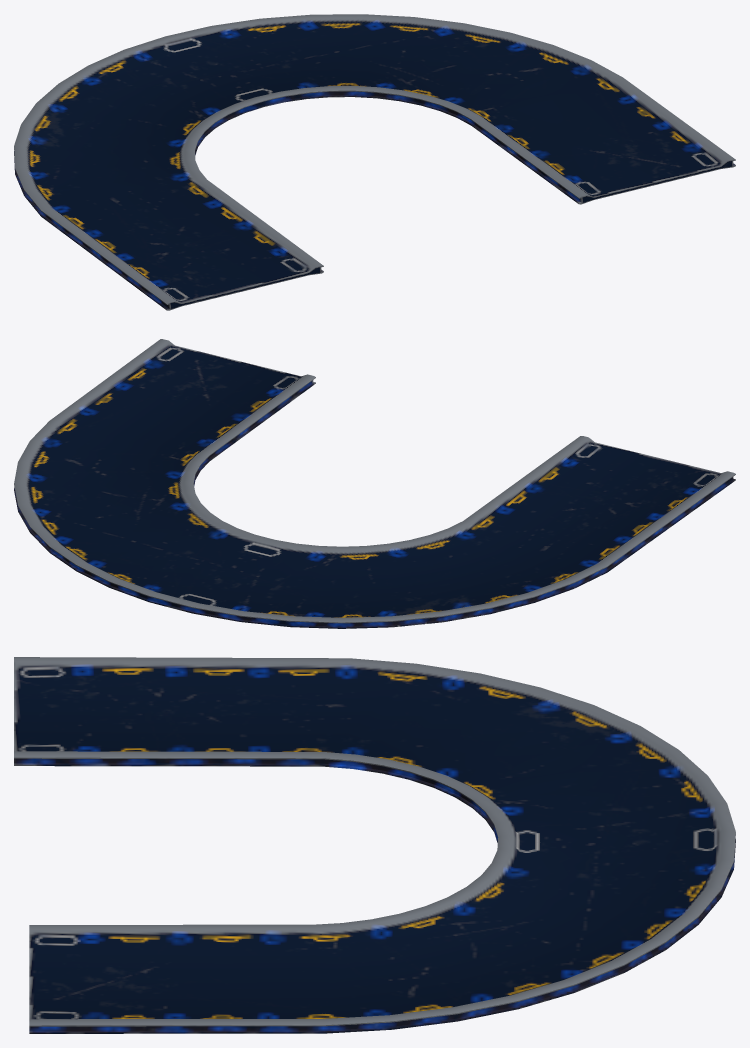
The model's file is SM_Roads_1.fbx.
3 views of the same model, one above another, from view 1: azimuth 30°, elevation 25°; view 2: azimuth 150°, elevation 25°; view 3: azimuth 270°, elevation 25° (orthographic). The views are drawn at different scales.
Parts seen in each view (by area): view 1: SM_Roads_1; view 2: SM_Roads_1; view 3: SM_Roads_1.
Part boxes in pixels (<box>): SM_Roads_1: <box>14,14,735,310</box>; SM_Roads_1: <box>14,339,735,628</box>; SM_Roads_1: <box>14,657,735,1033</box>.
Size of the model in its own units: 2480 by 31.95 by 2054.
